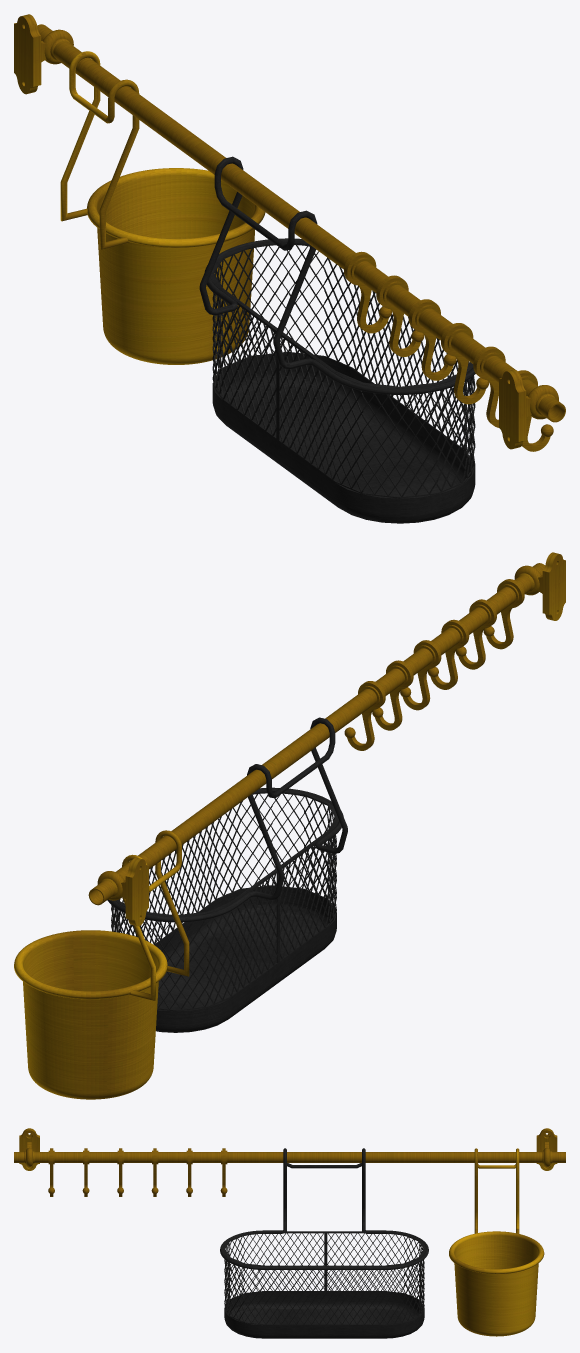
File: 031 - stand divari ikea talaei.glb
3 renders of one model, top to bottom at view 1: azimuth 30°, elevation 25°; view 2: azimuth 150°, elevation 25°; view 3: azimuth 270°, elevation 25°, orthographic. The views are drawn at different scales.
Visible parts, largest first — view 1: Group#17 [161710], Group#162 [160392], Group#8 [160393], Group#1 [199514], Group#7 [161699] (×5), Group#21 [161722], Group#16 [161711], Group#2 [161687], Group#15 [160406], Group#20 [161724]; view 2: Group#17 [161710], Group#8 [160393], Group#162 [160392], Group#1 [199514], Group#7 [161699] (×6), Group#21 [161722], Group#16 [161711], Group#15 [160406], Group#2 [161687], Group#20 [161724]; view 3: Group#8 [160393], Group#162 [160392], Group#17 [161710], Group#1 [199514], Group#21 [161722], Group#20 [161724], Group#16 [161711], Group#15 [160406], Group#2 [161687].
Boxes of the visible parts, x1,y1,x2,y2 form: Group#17 [161710]: [87, 168, 265, 364]; Group#162 [160392]: [212, 353, 475, 523]; Group#8 [160393]: [212, 241, 475, 498]; Group#1 [199514]: [37, 24, 565, 422]; Group#7 [161699] (×5): [344, 251, 505, 427]; Group#21 [161722]: [199, 156, 475, 394]; Group#16 [161711]: [60, 51, 208, 249]; Group#2 [161687]: [499, 369, 526, 449]; Group#15 [160406]: [14, 14, 41, 94]; Group#20 [161724]: [210, 240, 473, 388]; Group#17 [161710]: [14, 930, 167, 1099]; Group#8 [160393]: [111, 790, 336, 1011]; Group#162 [160392]: [155, 886, 336, 1032]; Group#1 [199514]: [88, 563, 545, 905]; Group#7 [161699] (×6): [347, 579, 524, 750]; Group#21 [161722]: [107, 717, 347, 922]; Group#16 [161711]: [34, 830, 189, 1000]; Group#15 [160406]: [125, 857, 148, 926]; Group#2 [161687]: [542, 552, 565, 620]; Group#20 [161724]: [115, 789, 338, 916]; Group#8 [160393]: [224, 1232, 424, 1325]; Group#162 [160392]: [224, 1291, 424, 1338]; Group#17 [161710]: [449, 1231, 544, 1336]; Group#1 [199514]: [14, 1152, 565, 1162]; Group#21 [161722]: [220, 1148, 428, 1269]; Group#20 [161724]: [223, 1231, 425, 1266]; Group#16 [161711]: [474, 1148, 525, 1274]; Group#15 [160406]: [536, 1128, 557, 1170]; Group#2 [161687]: [19, 1128, 39, 1170].
Size of the model in its own units: 0.1641 by 0.2667 by 0.8.
5 materials, 5 textured.
